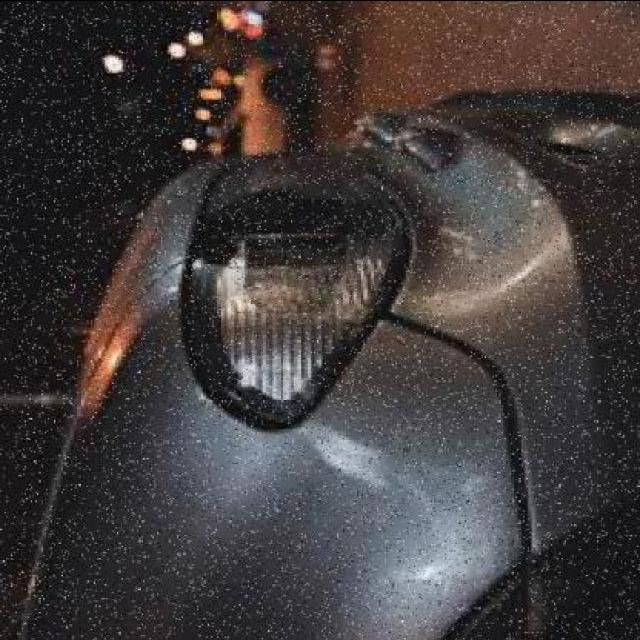Headlight-Damage: (157, 147, 430, 440)
